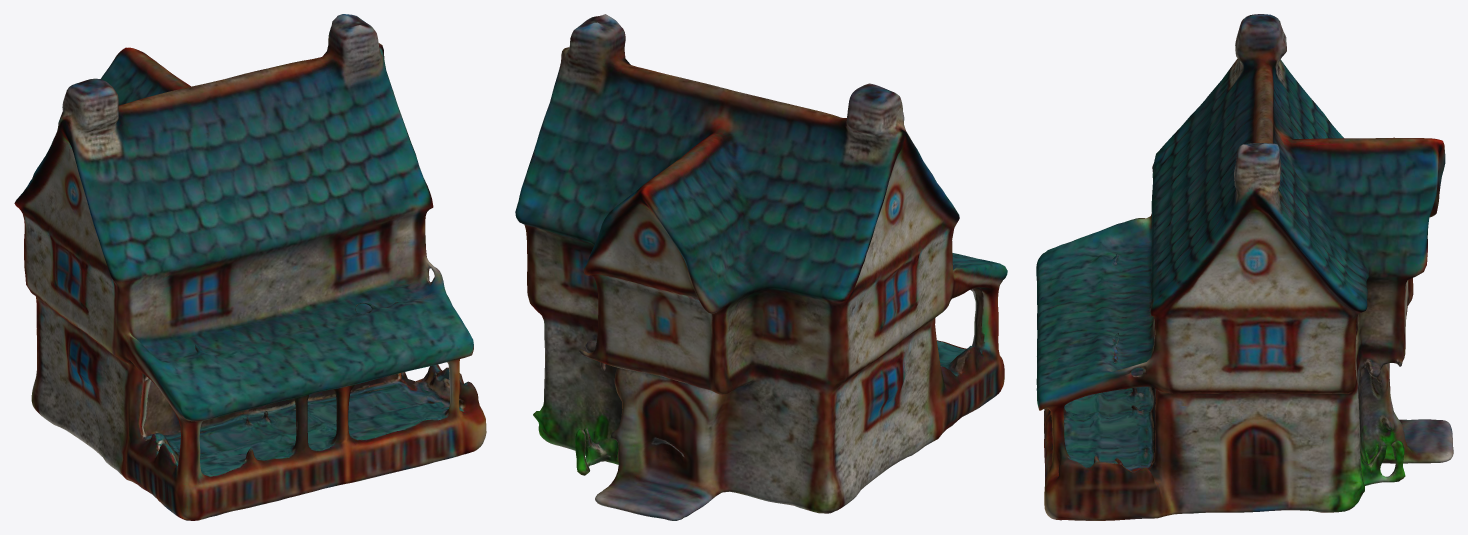
The model's file is House 1.fbx.
The picture shows the model from 3 angles, left to right: view 1: azimuth 30°, elevation 25°; view 2: azimuth 150°, elevation 25°; view 3: azimuth 270°, elevation 25°; orthographic projection. The views are drawn at different scales.
Visible parts, largest first — view 1: mesh; view 2: mesh; view 3: mesh.
Boxes of the visible parts, x1,y1,x2,y2 form: mesh: (14, 14, 486, 520); mesh: (515, 14, 1007, 520); mesh: (1036, 14, 1453, 520).
Bounding box in the file's own units: 89.47 × 96.25 × 99.64.
